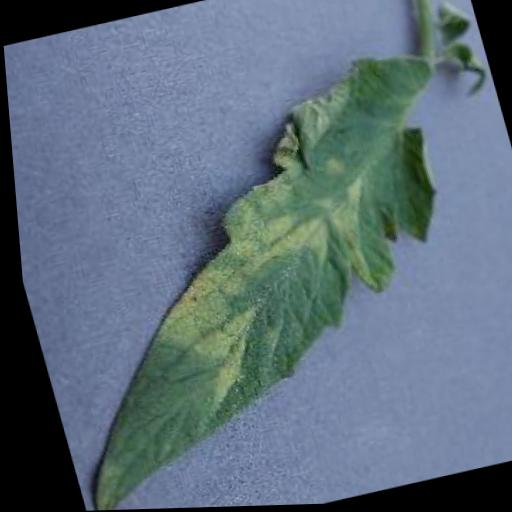Leaf Mold: (3, 41, 512, 512)
